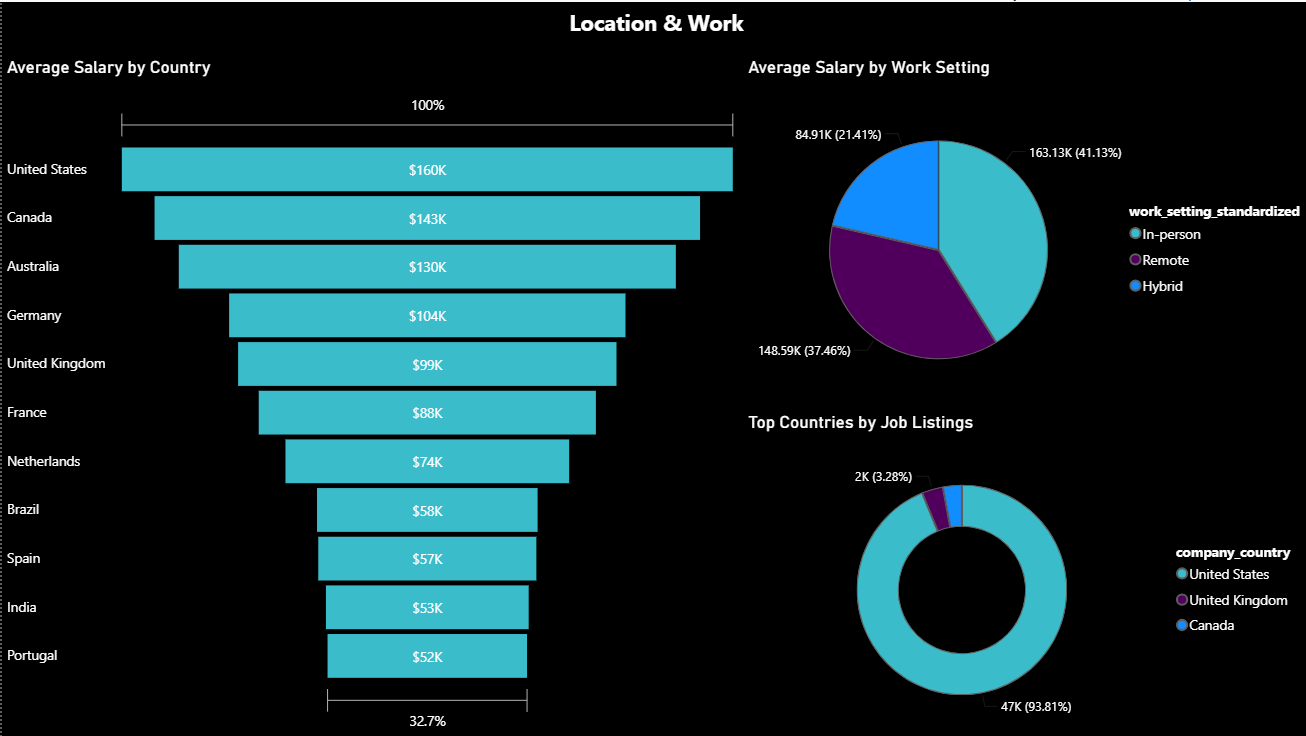

What the dashboard file says about the page in this screenshot:
{"tool":"powerbi","page":{"name":"Location & Work","canvas":[1280,720],"ordinal":2},"visuals":[{"type":"donutChart","title":"Top Countries by Job Listings","fields":{"Category":["salary_intelligence_project vw_top_countries.company_country"],"Y":["Sum(salary_intelligence_project vw_top_countries.total_jobs)"]},"box":[725.1,401.1,555.2,317.9],"z":0},{"type":"funnel","title":"Average Salary by Country","fields":{"Category":["salary_intelligence_project vw_salary_by_country.company_country"],"Y":["Sum(salary_intelligence_project vw_salary_by_country.avg_salary)"]},"box":[0,53.8,725.1,665.6],"z":1000},{"type":"pieChart","title":"Average Salary by Work Setting","fields":{"Category":["salary_intelligence_project vw_salary_by_work_setting.work_setting_standardized"],"Y":["Sum(salary_intelligence_project vw_salary_by_work_setting.avg_salary)"]},"box":[724.9,54.2,555.5,347.2],"z":2000},{"type":"textbox","box":[0,0,1280.3,54.2],"z":3000}]}

Visuals, with their boxes in screenshot pixels (x1, y1, x2, y2), scaled from the page's 1280x720 canvas onto the 1306x736 screenshot:
"Top Countries by Job Listings" donutChart: [x1=740, y1=410, x2=1305, y2=735]
"Average Salary by Country" funnel: [x1=0, y1=55, x2=740, y2=735]
"Average Salary by Work Setting" pieChart: [x1=740, y1=55, x2=1305, y2=410]
textbox: [x1=0, y1=0, x2=1305, y2=55]
